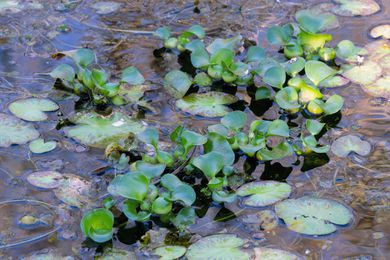water_hyacinth: (45, 16, 353, 241)
